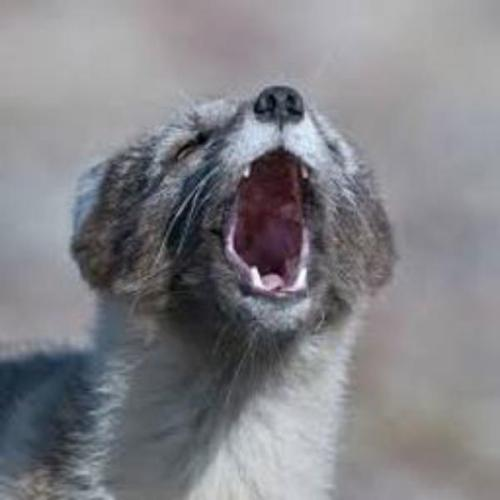arctic_fox-endangered: (0, 84, 395, 500)
